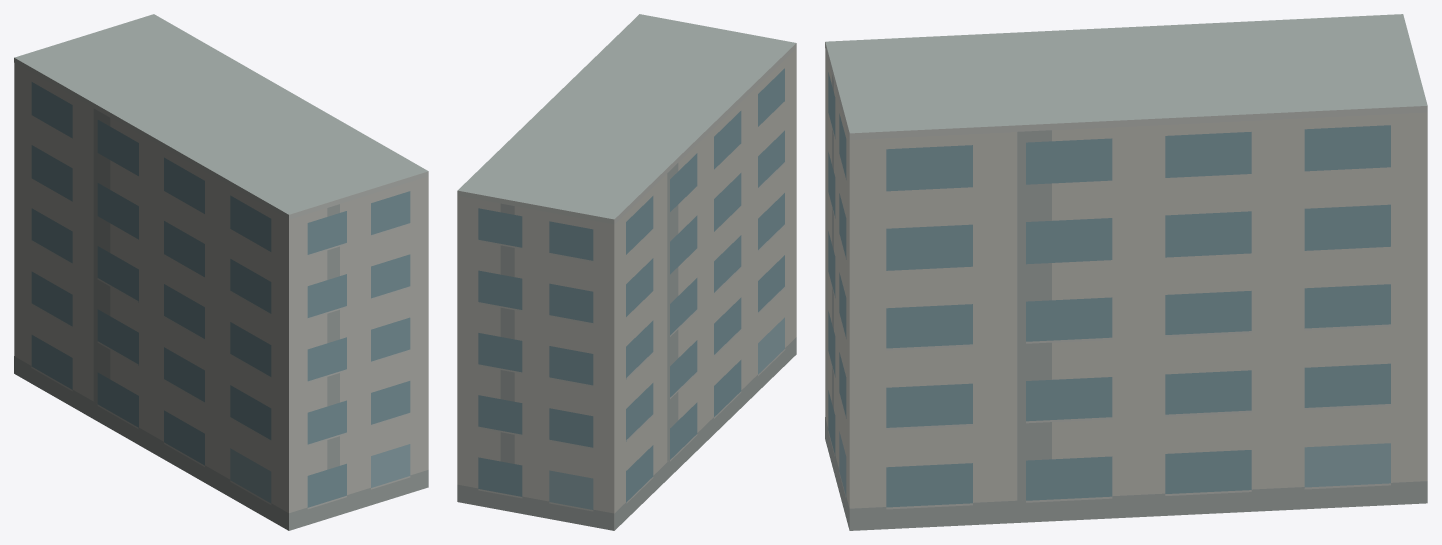
File: survey-upis-32935560.glb
3 renders of one model, left to right at view 1: azimuth 30°, elevation 25°; view 2: azimuth 150°, elevation 25°; view 3: azimuth 270°, elevation 25°, orthographic. The views are drawn at different scales.
Visible parts, largest first — view 1: survey-upis-32935560.tmp; view 2: survey-upis-32935560.tmp; view 3: survey-upis-32935560.tmp.
Part boxes in pixels (x1,y1,x2,y2): survey-upis-32935560.tmp: (14,14,428,530); survey-upis-32935560.tmp: (457,14,796,530); survey-upis-32935560.tmp: (825,14,1427,530).
Bounding box in the file's own units: 9.67 × 15 × 20.61.
